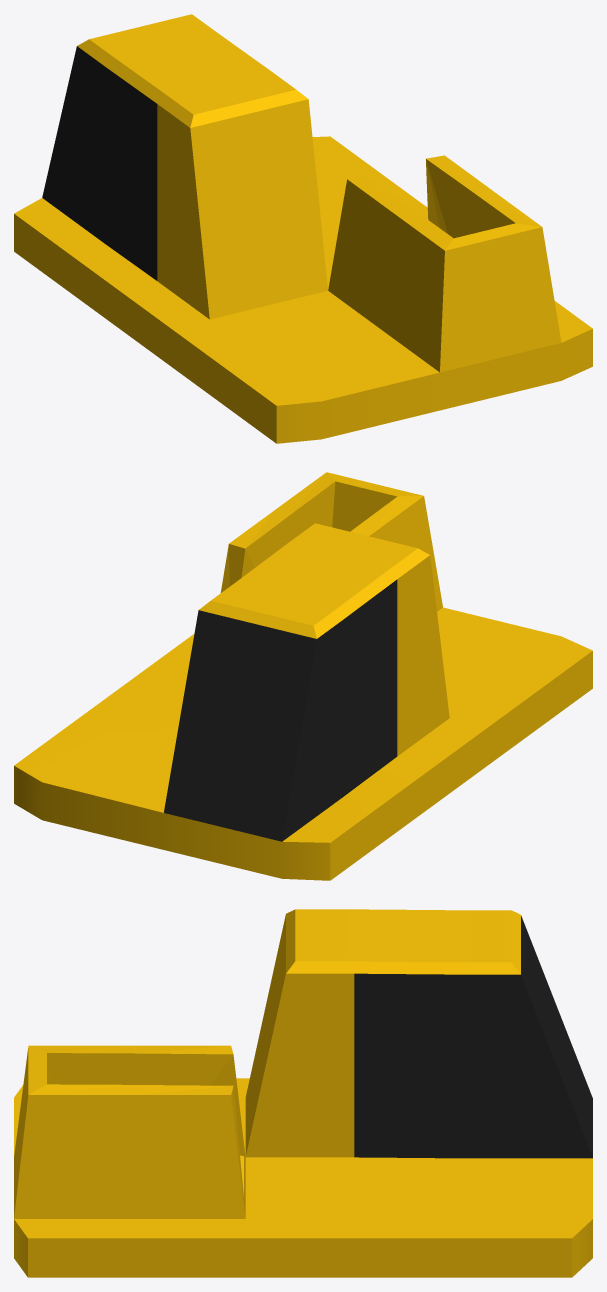
The model's file is cabina.dae.
The picture shows the model from 3 angles, top to bottom: view 1: azimuth 30°, elevation 25°; view 2: azimuth 150°, elevation 25°; view 3: azimuth 270°, elevation 25°; orthographic projection. The views are drawn at different scales.
Parts seen in each view (by area): view 1: chasis sup001; view 2: chasis sup001; view 3: chasis sup001.
Part boxes in pixels (<box>): chasis sup001: <box>14,14,592,443</box>; chasis sup001: <box>14,472,592,880</box>; chasis sup001: <box>14,909,592,1277</box>.
Size of the model in its own units: 54.05 by 36.48 by 82.68.
